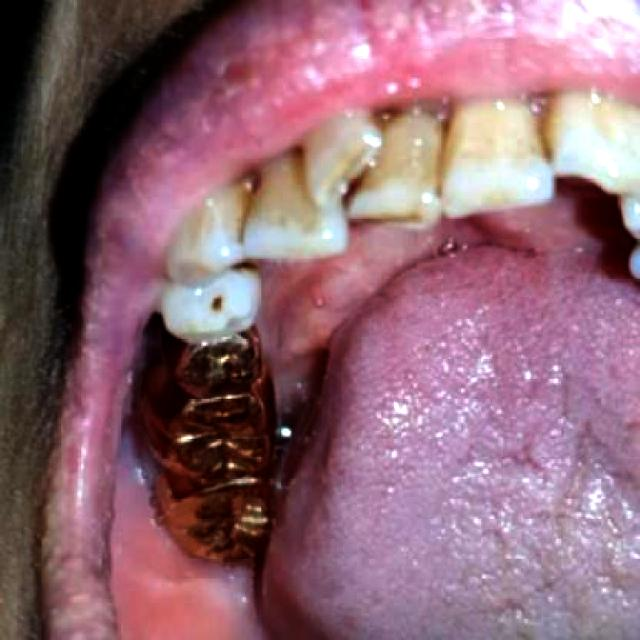Plaque: (204, 291, 232, 317), (146, 444, 160, 491)
